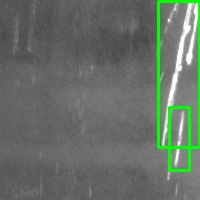scratches: (158, 1, 199, 147), (169, 107, 189, 170)
